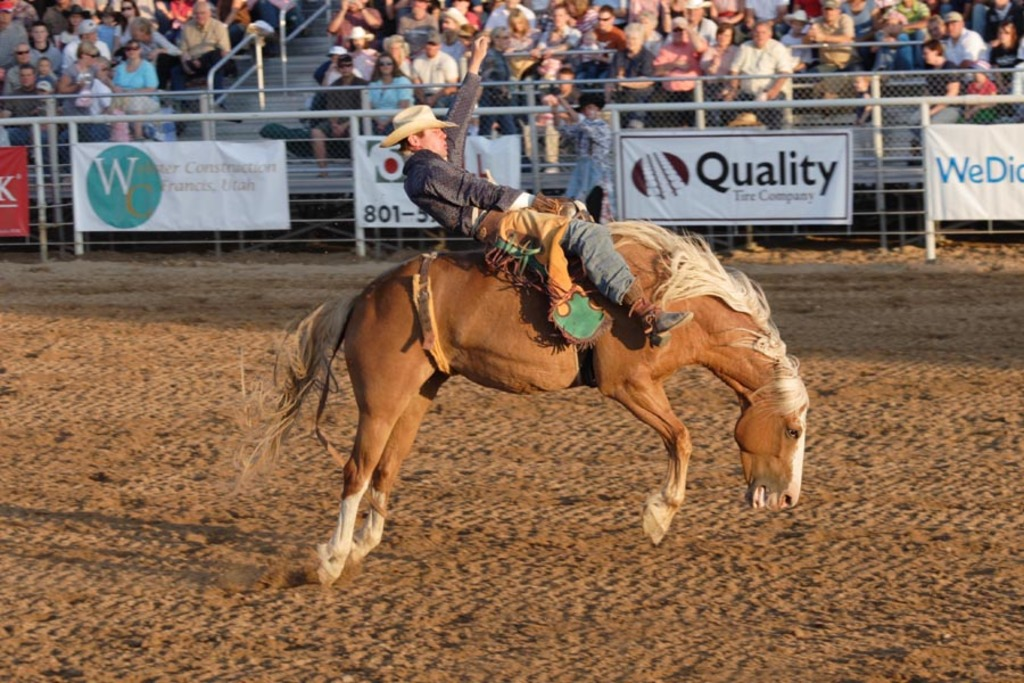horse: (224, 215, 809, 587)
